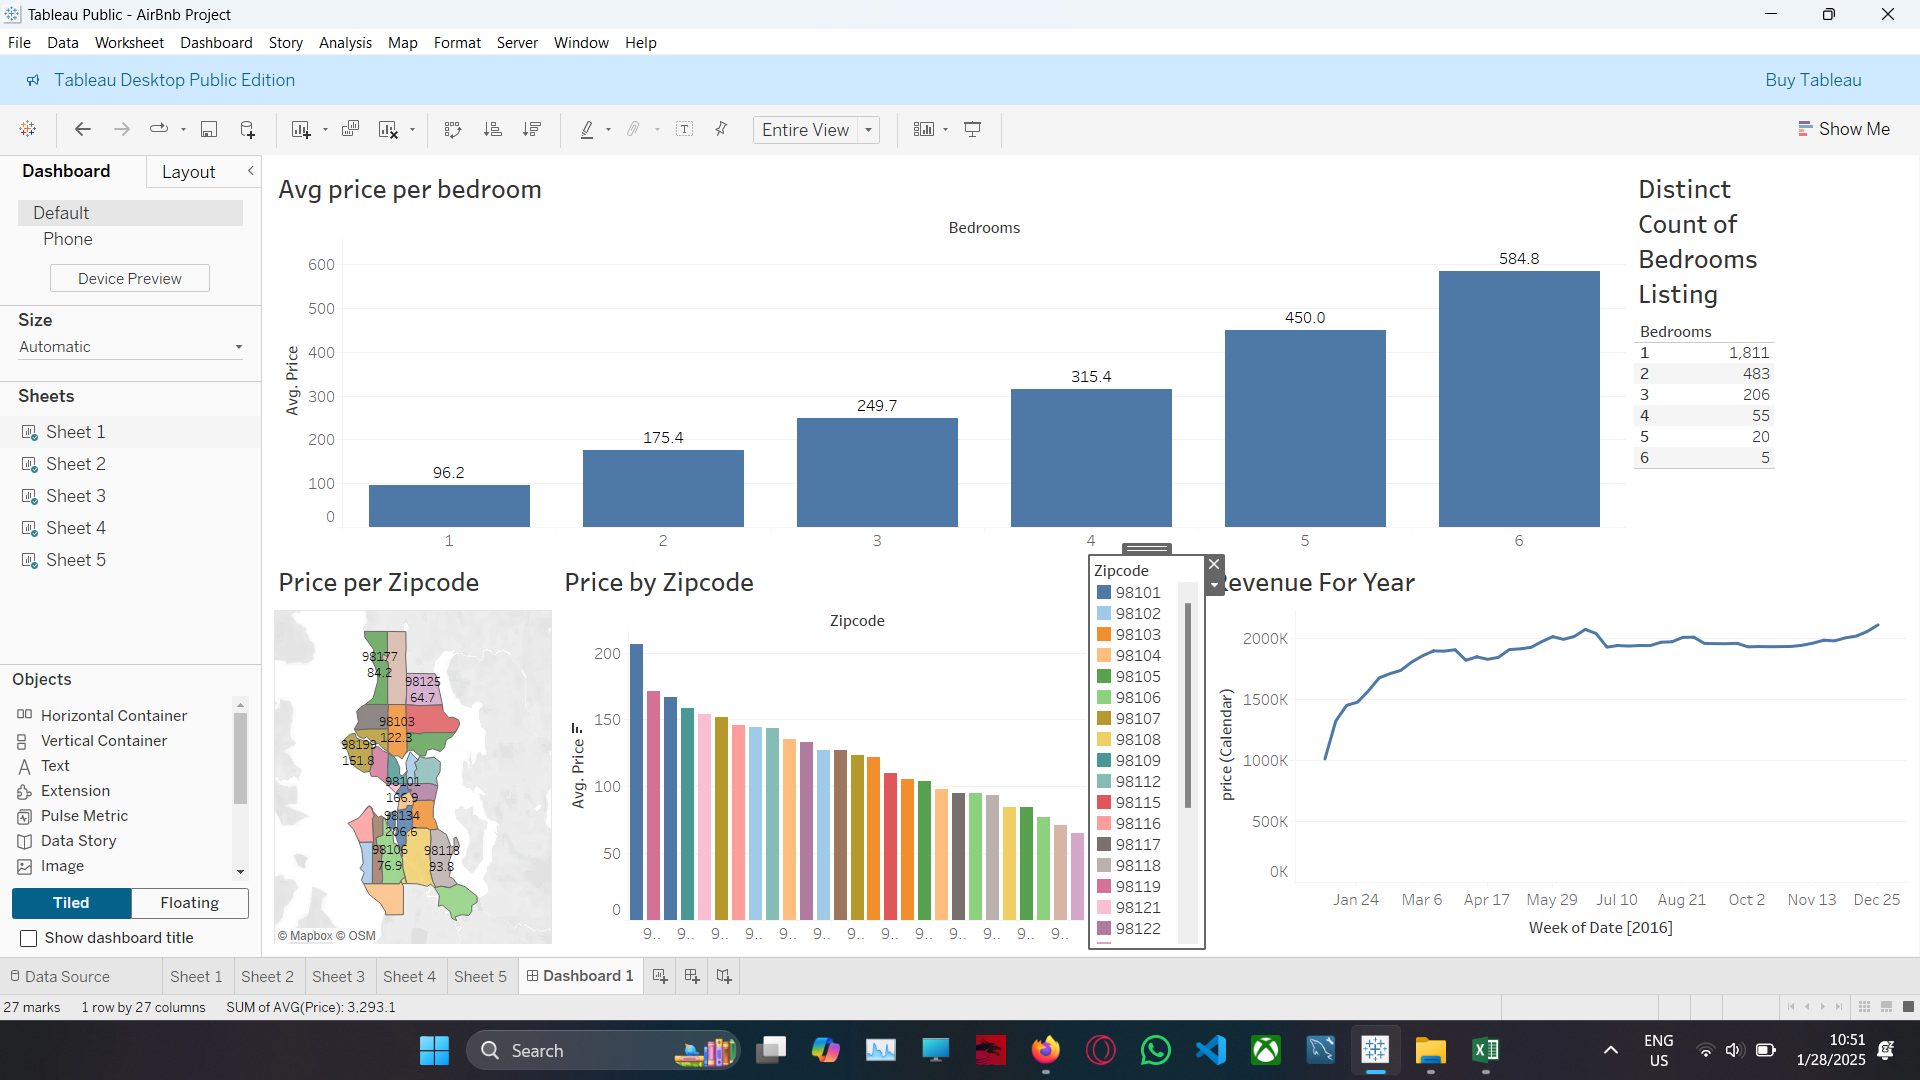

This screenshot's page, from the dashboard's own definition file:
{"tool":"tableau","page":{"name":"Dashboard 1","canvas":[1000,1000],"units":"permille","ordinal":0},"visuals":[{"type":"worksheet","title":"Sheet 4","mark":"Automatic","rows":["price"],"cols":["bedrooms"],"box":[5.1,10,820.3,490]},{"type":"worksheet","title":"Sheet 5","mark":"Automatic","rows":["bedrooms"],"box":[825.4,10,169.5,490]},{"type":"worksheet","title":"Sheet 2","mark":"Multipolygon","box":[5.1,500,172.7,490]},{"type":"worksheet","title":"Sheet 1","mark":"Automatic","rows":["price"],"cols":["zipcode"],"box":[177.8,500,322.2,490]},{"type":"legend","title":"Sheet 1","param":"[federated.1my4j4515wgqjg13t2i1v0enspcy].[none:zipcode:ok]","box":[500,500,68.7,490]},{"type":"worksheet","title":"Sheet 3","mark":"Automatic","rows":["price (Calendar)"],"cols":["date"],"box":[568.7,500,426.2,490]}]}

Visuals, with their boxes on the dashboard's canvas, which has no fixed pixel size, in thousandths of its width and height (x1, y1, x2, y2). These are canvas units, not pixel positions in the 1920x1080 screenshot, which may show the page scaled, cropped or inside an application window:
"Sheet 4" worksheet: left=5, top=10, right=825, bottom=500
"Sheet 5" worksheet: left=825, top=10, right=995, bottom=500
"Sheet 2" worksheet (Multipolygon marks): left=5, top=500, right=178, bottom=990
"Sheet 1" worksheet: left=178, top=500, right=500, bottom=990
"Sheet 1" legend: left=500, top=500, right=569, bottom=990
"Sheet 3" worksheet: left=569, top=500, right=995, bottom=990
